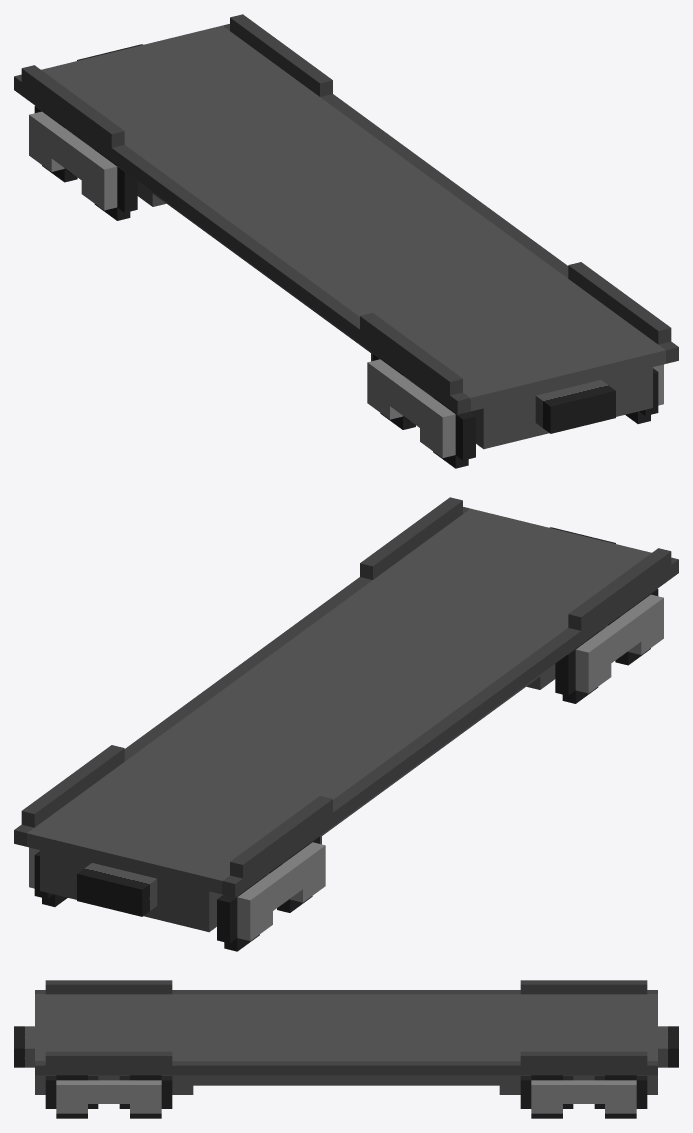
File: veh_train3.dae
3 views of the same model, one above another, from view 1: azimuth 30°, elevation 25°; view 2: azimuth 150°, elevation 25°; view 3: azimuth 270°, elevation 25° (orthographic). The views are drawn at different scales.
Parts seen in each view (by area): view 1: veh_train3; view 2: veh_train3; view 3: veh_train3.
Part boxes in pixels (x1,y1,x2,y2): veh_train3: (14, 14, 678, 468); veh_train3: (14, 497, 678, 951); veh_train3: (14, 980, 678, 1118).
Size of the model in its own units: 1.7 by 6.3 by 0.7.
1 material, 1 textured.
